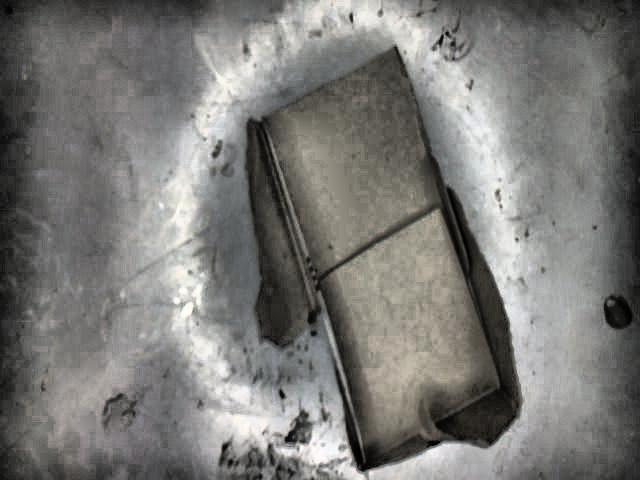Paper: (246, 45, 524, 472)
